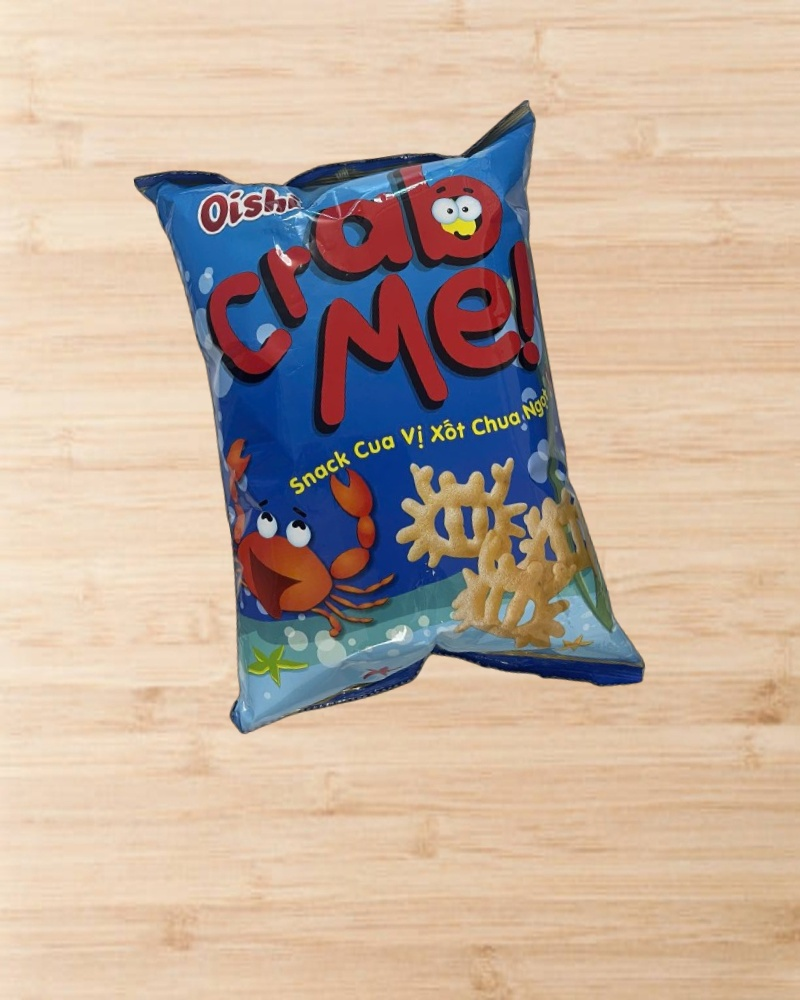Snack cua: (133, 98, 647, 748)
